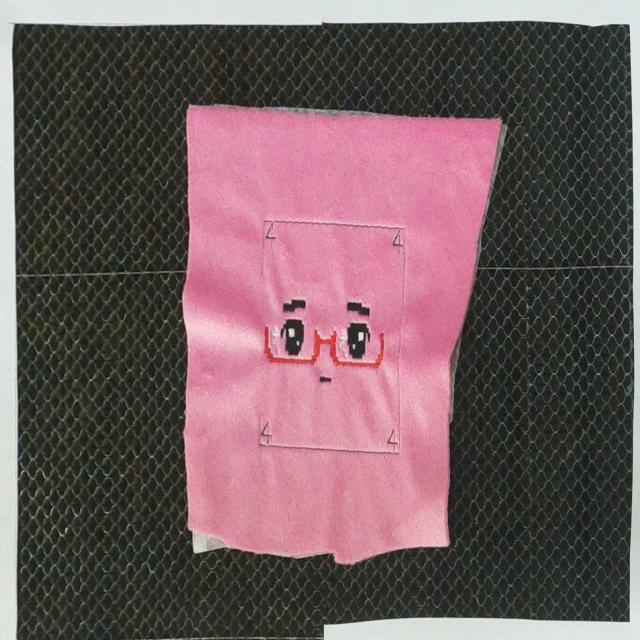4 -: (384, 426, 399, 451), (261, 416, 274, 443), (267, 221, 277, 249), (391, 232, 403, 255)
